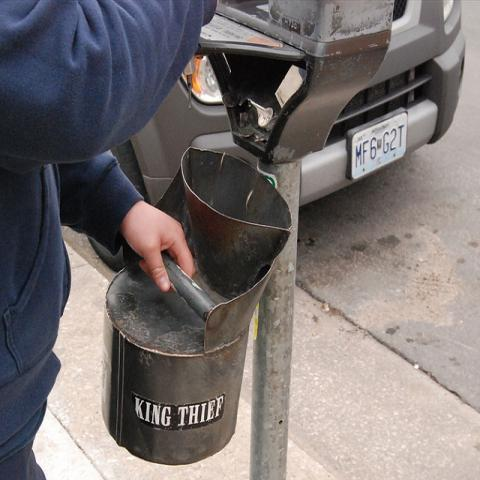car: (89, 0, 468, 274)
